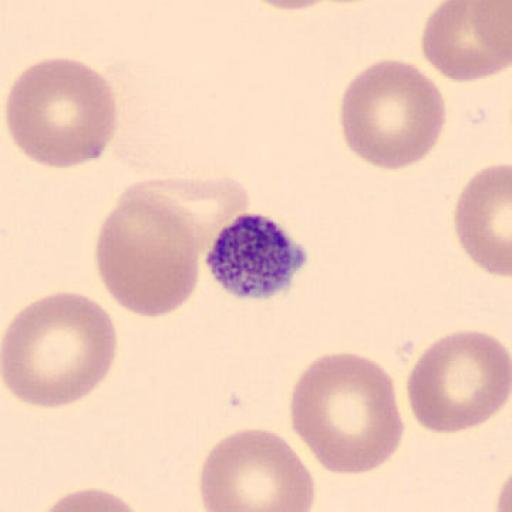Platelet: (204, 210, 312, 302)
RBC: (93, 176, 203, 320), (289, 350, 405, 477), (0, 290, 118, 410), (4, 55, 118, 169), (338, 57, 447, 171), (406, 328, 510, 436), (198, 426, 316, 512), (421, 0, 512, 83), (452, 161, 512, 280), (35, 486, 146, 512), (245, 0, 336, 11), (495, 471, 512, 512)
